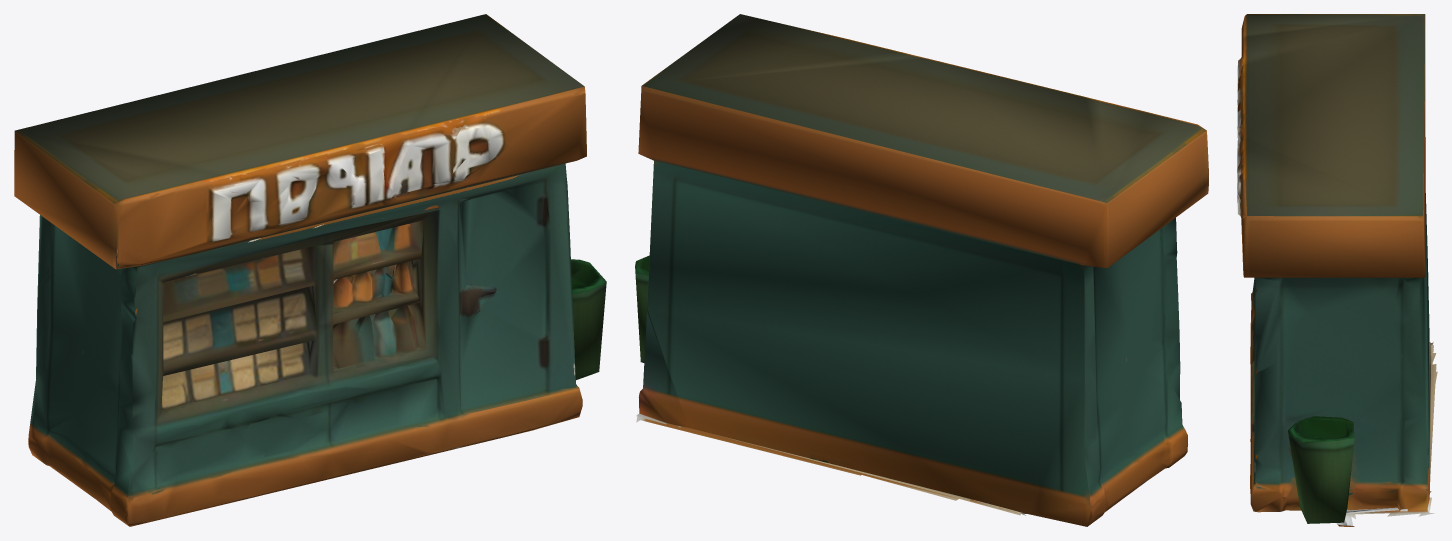
Rendered from kiosk.fbx.
3 renders of one model, left to right at view 1: azimuth 30°, elevation 25°; view 2: azimuth 150°, elevation 25°; view 3: azimuth 270°, elevation 25°, orthographic. The views are drawn at different scales.
Visible parts, largest first — view 1: tmpx3c8ewqx.ply; view 2: tmpx3c8ewqx.ply; view 3: tmpx3c8ewqx.ply.
Boxes of the visible parts, x1,y1,x2,y2 form: tmpx3c8ewqx.ply: [14, 14, 606, 526]; tmpx3c8ewqx.ply: [635, 14, 1208, 526]; tmpx3c8ewqx.ply: [1237, 14, 1437, 526].
Bounding box in the file's own units: 197 × 120 × 73.2.
1 material, 1 textured.
